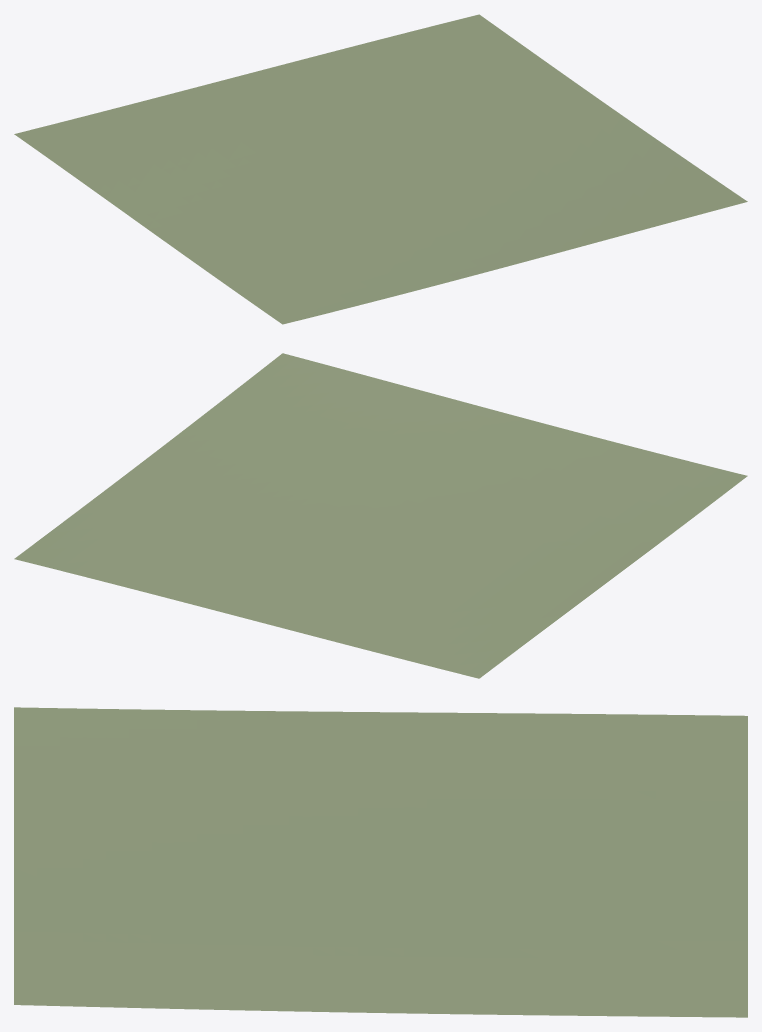
The model's file is expanse-6-12.glb.
The picture shows the model from 3 angles, top to bottom: view 1: azimuth 30°, elevation 25°; view 2: azimuth 150°, elevation 25°; view 3: azimuth 270°, elevation 25°; orthographic projection. The views are drawn at different scales.
Visible parts, largest first — view 1: expanse-6-12; view 2: expanse-6-12; view 3: expanse-6-12.
Part boxes in pixels (x1,y1,x2,y2): expanse-6-12: (14, 14, 747, 324); expanse-6-12: (14, 353, 747, 678); expanse-6-12: (14, 707, 747, 1017).
Size of the model in its own units: 256 by 8.12 by 256.
